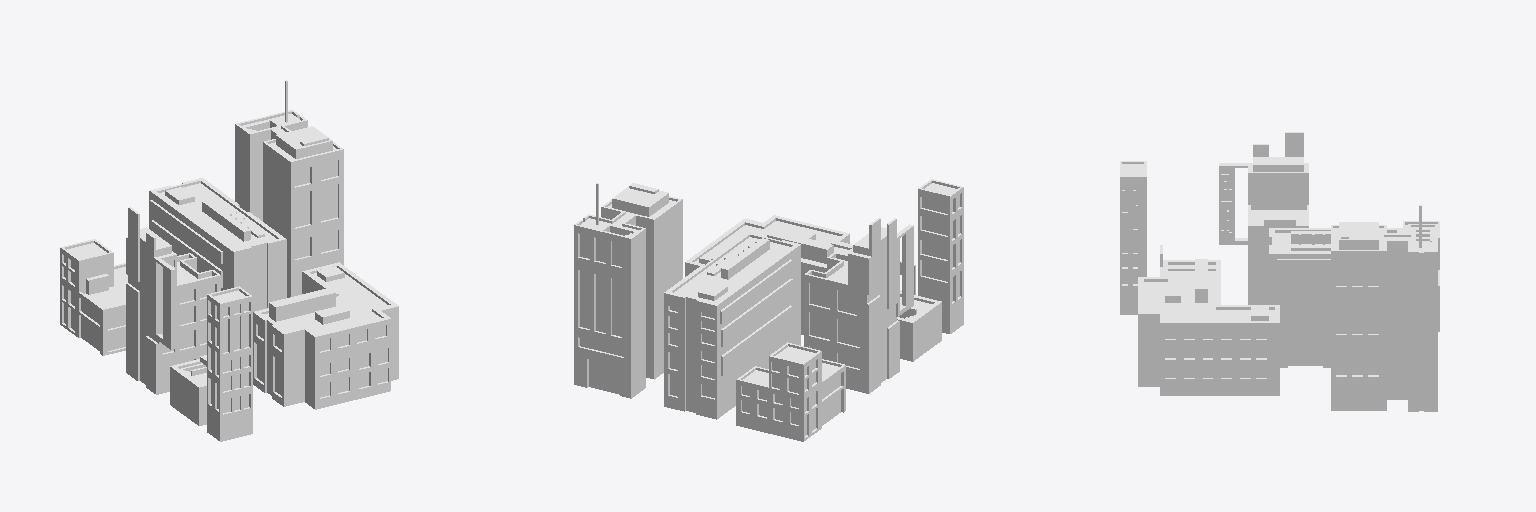
File: buildings2.obj
3 renders of one model, left to right at view 1: azimuth 30°, elevation 25°; view 2: azimuth 150°, elevation 25°; view 3: azimuth 270°, elevation 25°, orthographic.
Visible parts, largest first — view 1: object 1; view 2: object 1; view 3: object 1.
Part boxes in pixels (bbox=[...]): object 1: bbox=[60, 80, 398, 441]; object 1: bbox=[574, 179, 963, 441]; object 1: bbox=[1120, 132, 1439, 411].
Bounding box in the file's own units: 10 × 8.2 × 12.